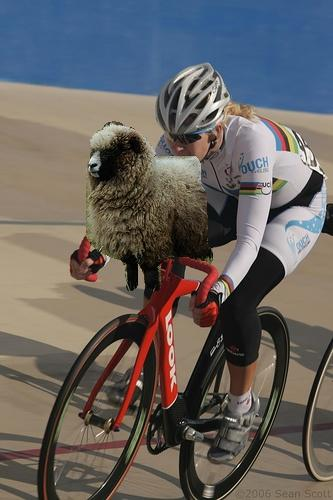tampered: (87, 122, 213, 291)
